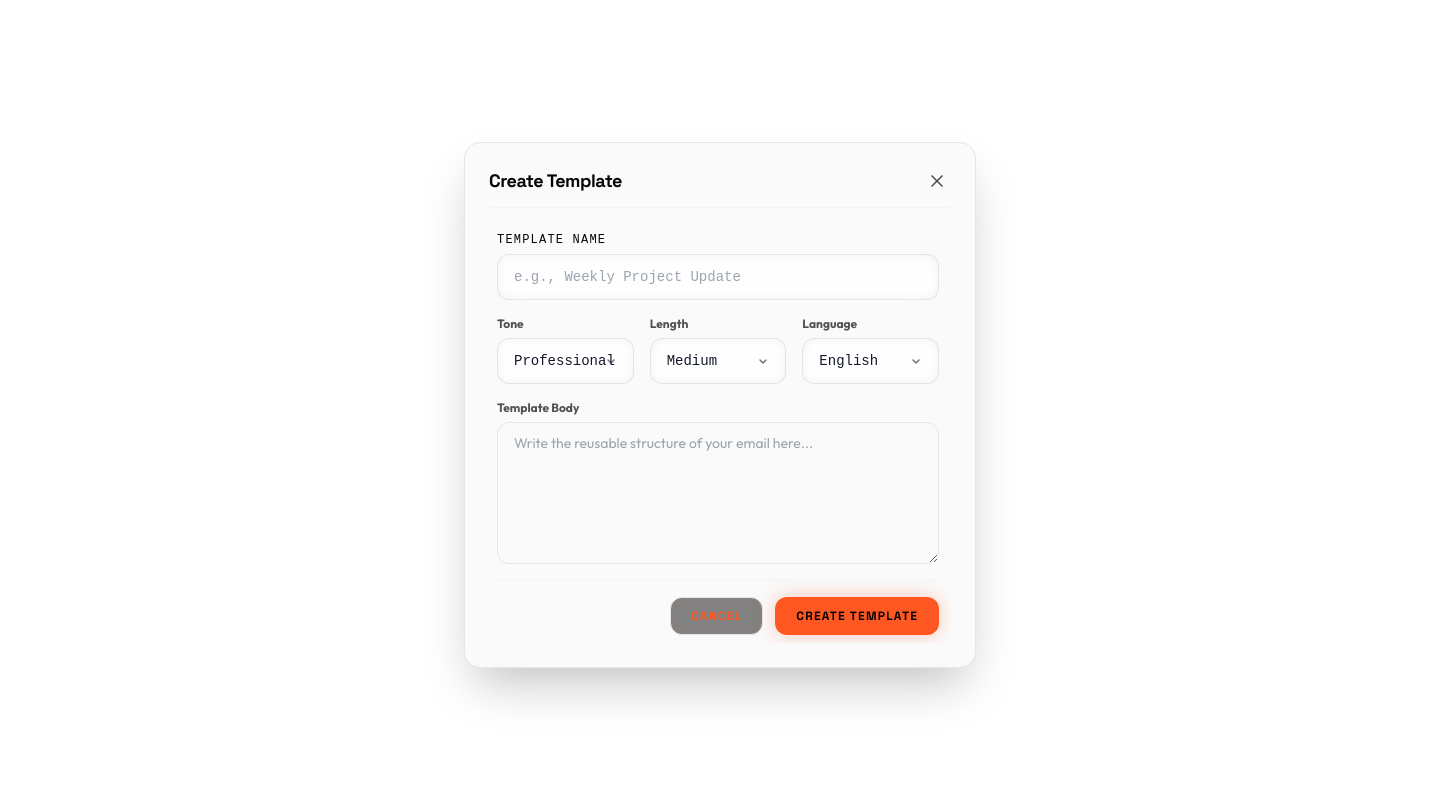
Test: TemplateModal › shows validation error for empty name on submit
Click the button "Create Template" at (857, 616), box [775,597,939,635]
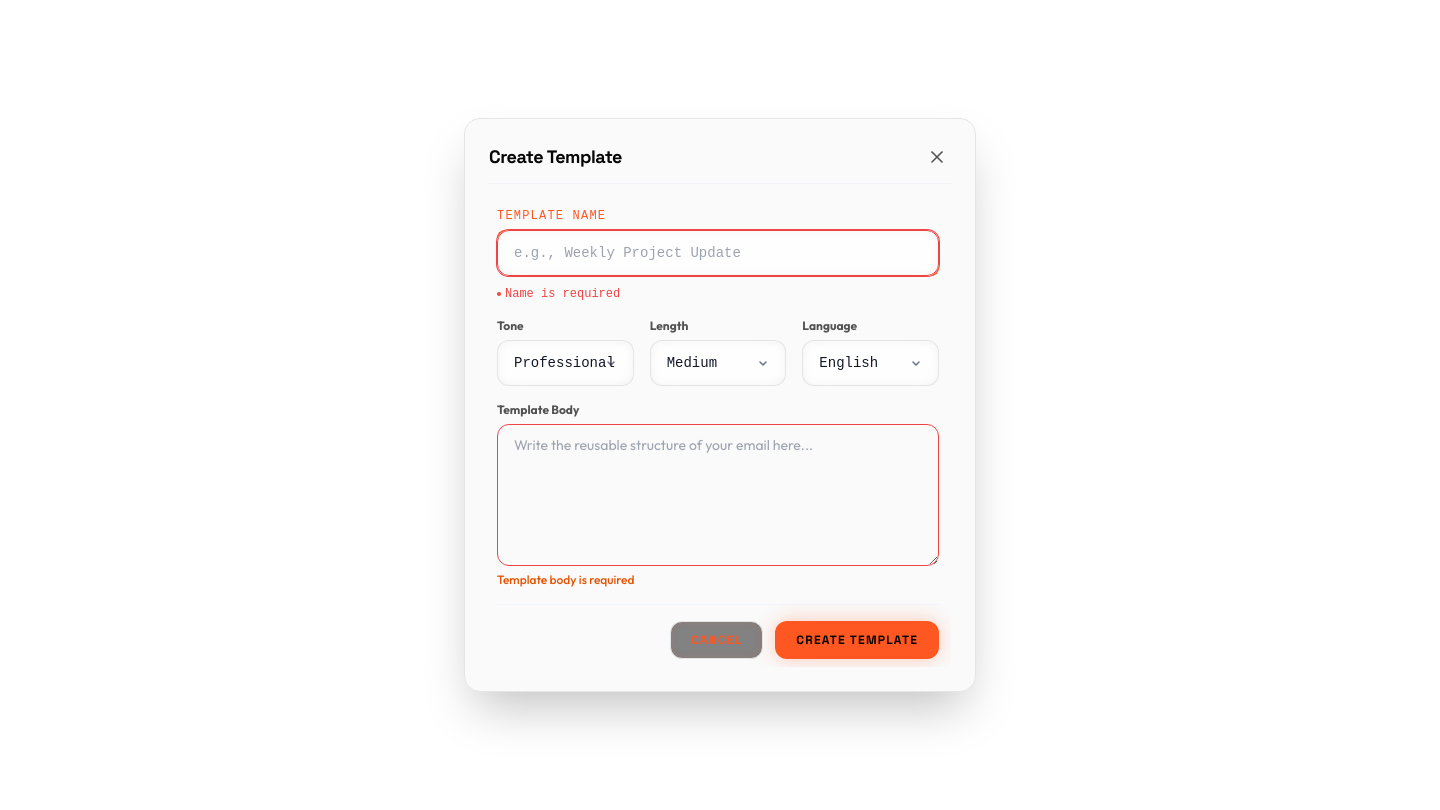
Now the text "Name is required" is shown, box [497,287,620,301]
